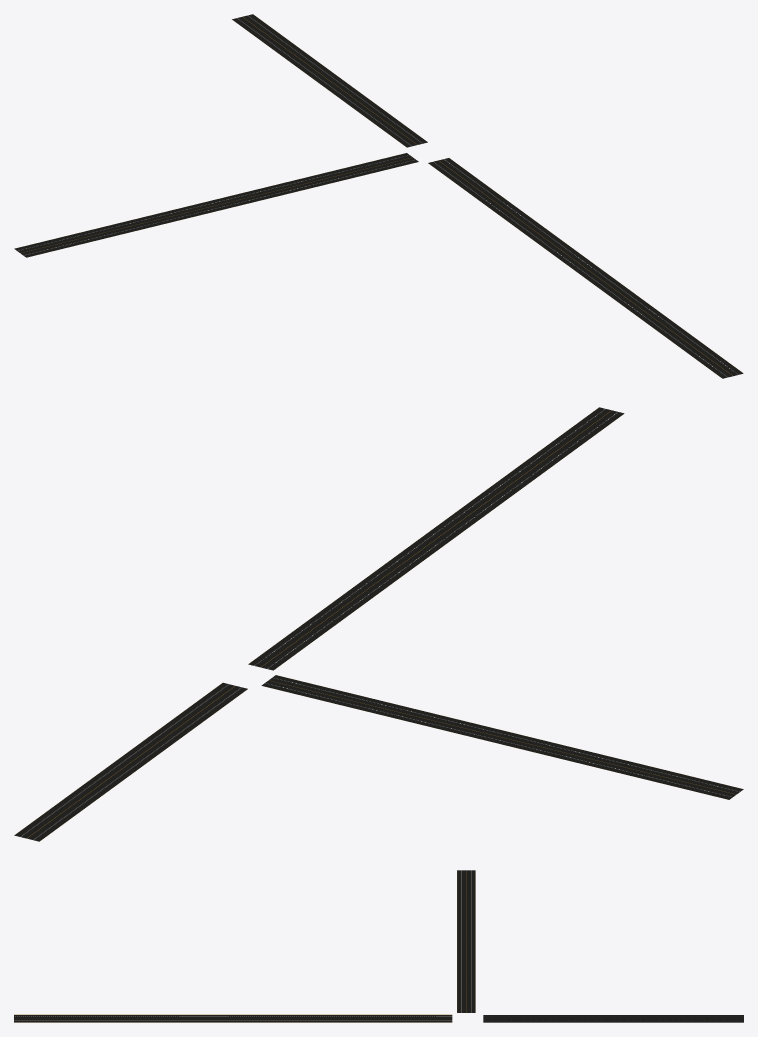
File: grouped_road.glb
3 views of the same model, one above another, from view 1: azimuth 30°, elevation 25°; view 2: azimuth 150°, elevation 25°; view 3: azimuth 270°, elevation 25° (orthographic). The views are drawn at different scales.
Parts seen in each view (by area): view 1: road_geometry.001, road_geometry, road_geometry.002; view 2: road_geometry.001, road_geometry, road_geometry.002; view 3: road_geometry.001, road_geometry, road_geometry.002.
Part boxes in pixels (<box>): road_geometry.001: <box>428,158,743,378</box>; road_geometry: <box>14,153,418,257</box>; road_geometry.002: <box>232,14,427,147</box>; road_geometry.001: <box>248,407,624,670</box>; road_geometry: <box>261,675,743,799</box>; road_geometry.002: <box>14,682,247,841</box>; road_geometry.001: <box>14,1014,452,1022</box>; road_geometry: <box>457,870,475,1012</box>; road_geometry.002: <box>483,1015,743,1022</box>.
Bounding box in the file's own units: 235 × 4.32e-07 × 476.
Materials: 1 (1 with a texture image).
